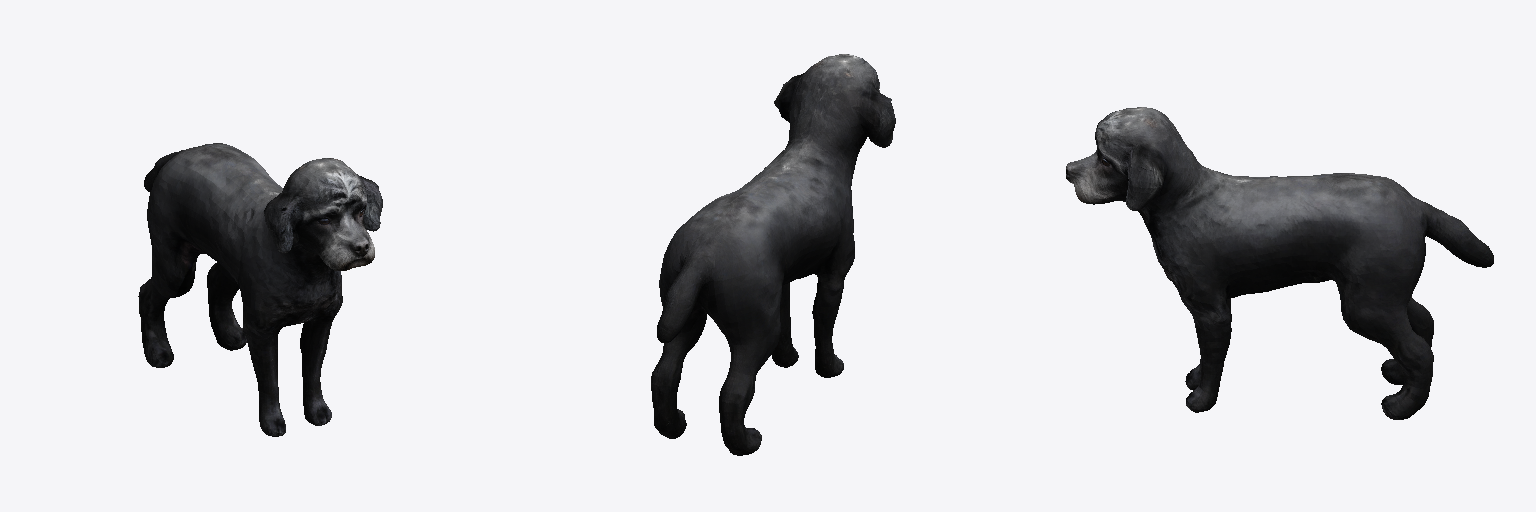
The picture shows the model from 3 angles: view 1: azimuth 30°, elevation 25°; view 2: azimuth 150°, elevation 25°; view 3: azimuth 270°, elevation 25°; orthographic projection.
Visible parts, largest first — view 1: Black_Puddle_Dog_Bla_[number redacted]_texture; view 2: Black_Puddle_Dog_Bla_[number redacted]_texture; view 3: Black_Puddle_Dog_Bla_[number redacted]_texture.
Part boxes in pixels (left/top/right/bottom): Black_Puddle_Dog_Bla_[number redacted]_texture: left=138, top=143, right=382, bottom=436; Black_Puddle_Dog_Bla_[number redacted]_texture: left=651, top=54, right=895, bottom=455; Black_Puddle_Dog_Bla_[number redacted]_texture: left=1066, top=107, right=1493, bottom=419.
Size of the model in its own units: 0.593 by 1.49 by 2.
1 materials, 1 textured.